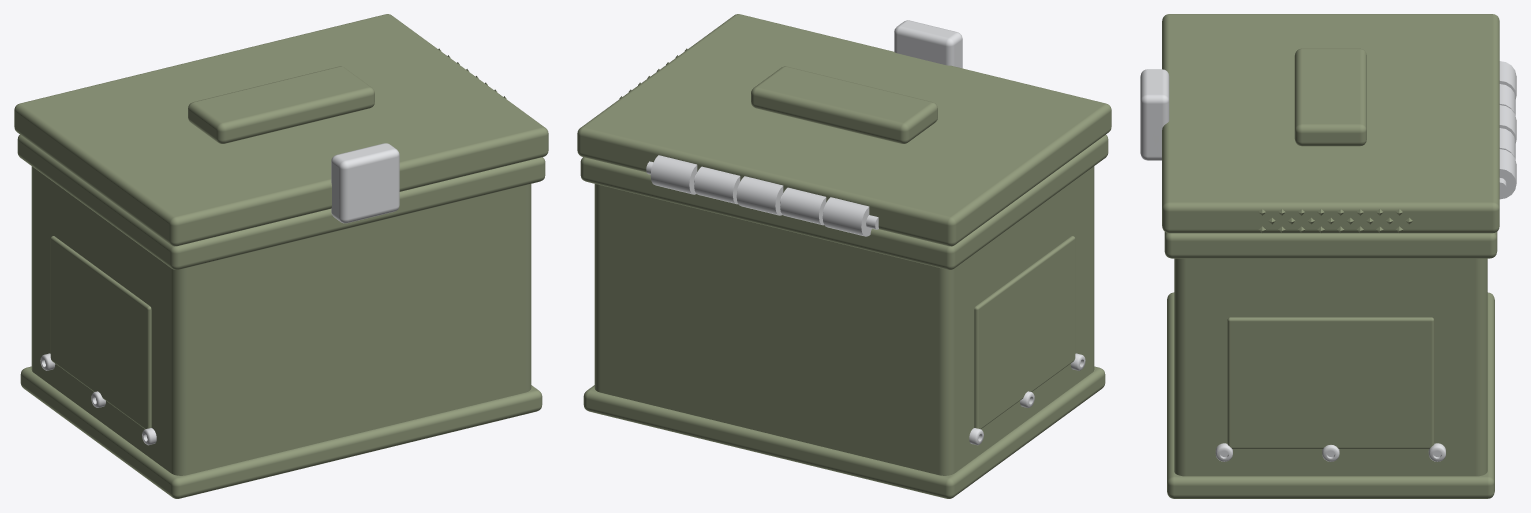
Rendered from mega-weapon-pack-pistol-ammo-box-afc25676__33419.glb.
3 renders of one model, left to right at view 1: azimuth 30°, elevation 25°; view 2: azimuth 150°, elevation 25°; view 3: azimuth 270°, elevation 25°, orthographic. The views are drawn at different scales.
Parts seen in each view (by area): view 1: pistol-ammo-box, lid/paintOlive, lid/steelBright; view 2: pistol-ammo-box, lid/paintOlive, lid/steelBright; view 3: pistol-ammo-box, lid/paintOlive, lid/steelBright.
Boxes of the visible parts, bbox=[...] form: pistol-ammo-box: bbox=[17, 135, 545, 498]; lid/paintOlive: bbox=[14, 14, 548, 246]; lid/steelBright: bbox=[331, 143, 399, 223]; pistol-ammo-box: bbox=[580, 135, 1108, 498]; lid/paintOlive: bbox=[577, 14, 1111, 246]; lid/steelBright: bbox=[894, 20, 962, 68]; pistol-ammo-box: bbox=[1164, 61, 1516, 498]; lid/paintOlive: bbox=[1162, 14, 1499, 233]; lid/steelBright: bbox=[1140, 69, 1169, 160].
Size of the model in its own units: 0.1917 by 0.1485 by 0.156.
